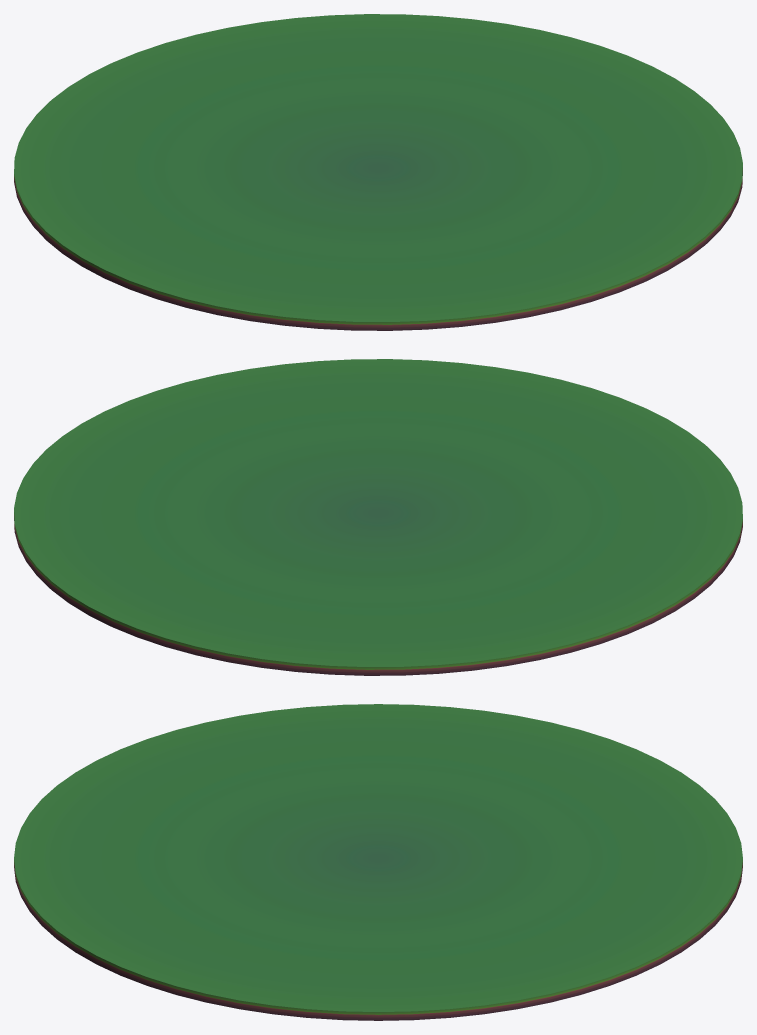
File: superficie.obj
The picture shows the model from 3 angles, top to bottom: view 1: azimuth 30°, elevation 25°; view 2: azimuth 150°, elevation 25°; view 3: azimuth 270°, elevation 25°; orthographic projection.
Parts seen in each view (by area): view 1: World; view 2: World; view 3: World.
Boxes of the visible parts, x1=… form: World: x1=14, y1=14, x2=742, y2=330; World: x1=14, y1=359, x2=742, y2=675; World: x1=14, y1=704, x2=742, y2=1020.
Bounding box in the file's own units: 37.72 × 0.5 × 37.72.
Materials: 1 (1 with a texture image).
